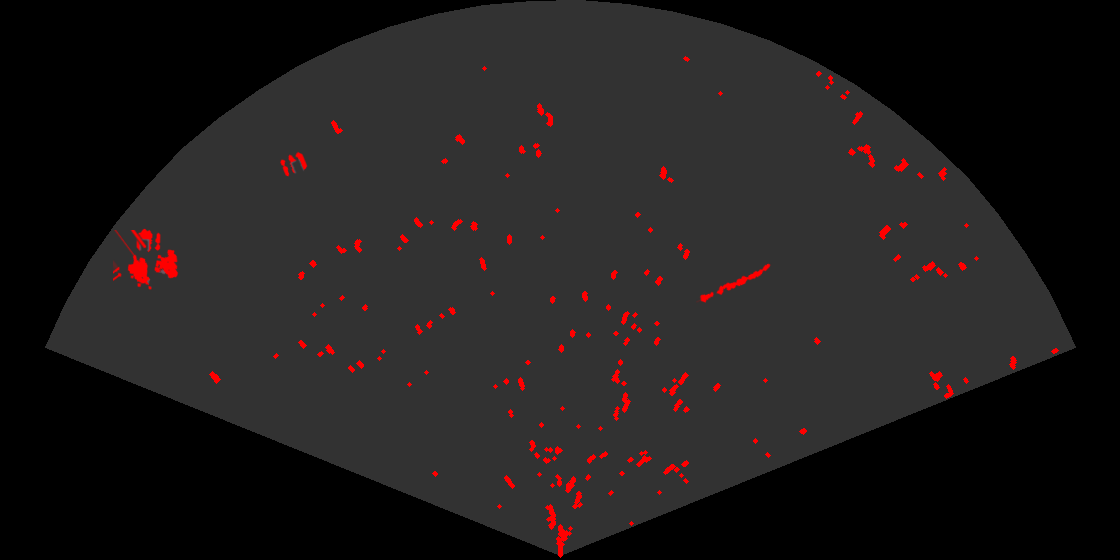ball: (279, 150, 309, 178), (135, 227, 162, 254)
cage: (113, 230, 180, 291)
chain: (696, 262, 772, 304)
